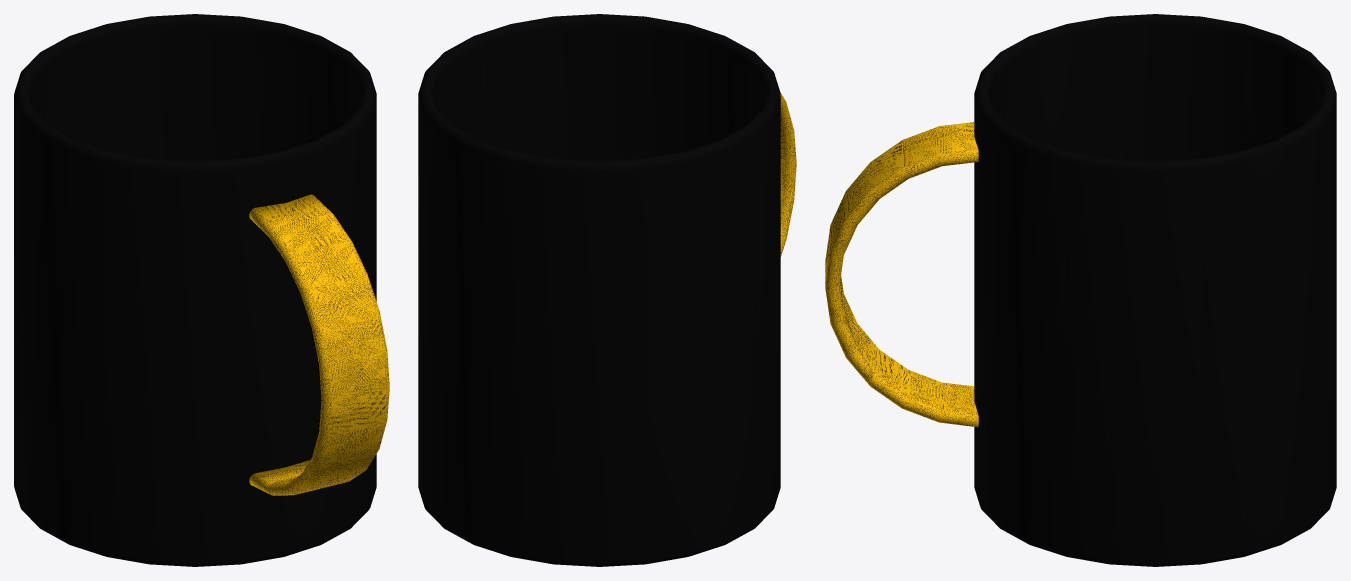
The model's file is mug_07_origin_gt_1.dae.
The picture shows the model from 3 angles, left to right: view 1: azimuth 30°, elevation 25°; view 2: azimuth 150°, elevation 25°; view 3: azimuth 270°, elevation 25°; orthographic projection.
Visible parts, largest first — view 1: group_2, group_1; view 2: group_2, group_1; view 3: group_2, group_1.
Part boxes in pixels (x1=…): group_2: x1=14, y1=14, x2=376, y2=566; group_1: x1=249, y1=194, x2=389, y2=495; group_2: x1=418, y1=14, x2=780, y2=566; group_1: x1=780, y1=92, x2=796, y2=256; group_2: x1=974, y1=14, x2=1336, y2=566; group_1: x1=825, y1=122, x2=978, y2=427.
Bounding box in the file's own units: 3.25 × 4.59 × 4.
